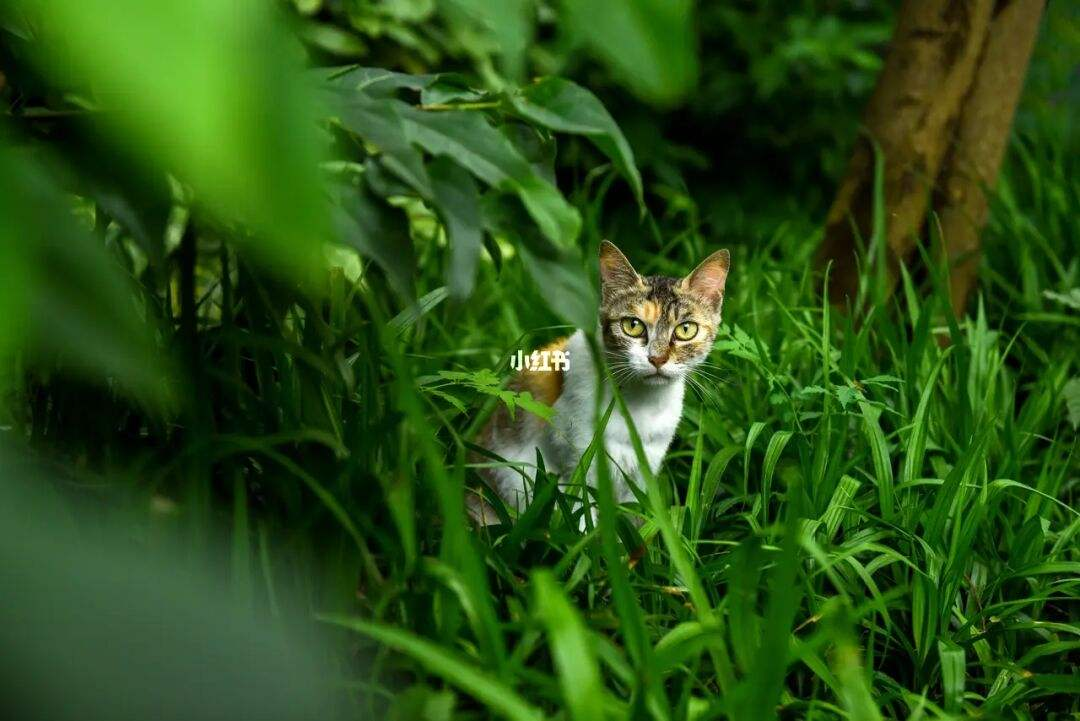cat: (466, 244, 729, 537)
